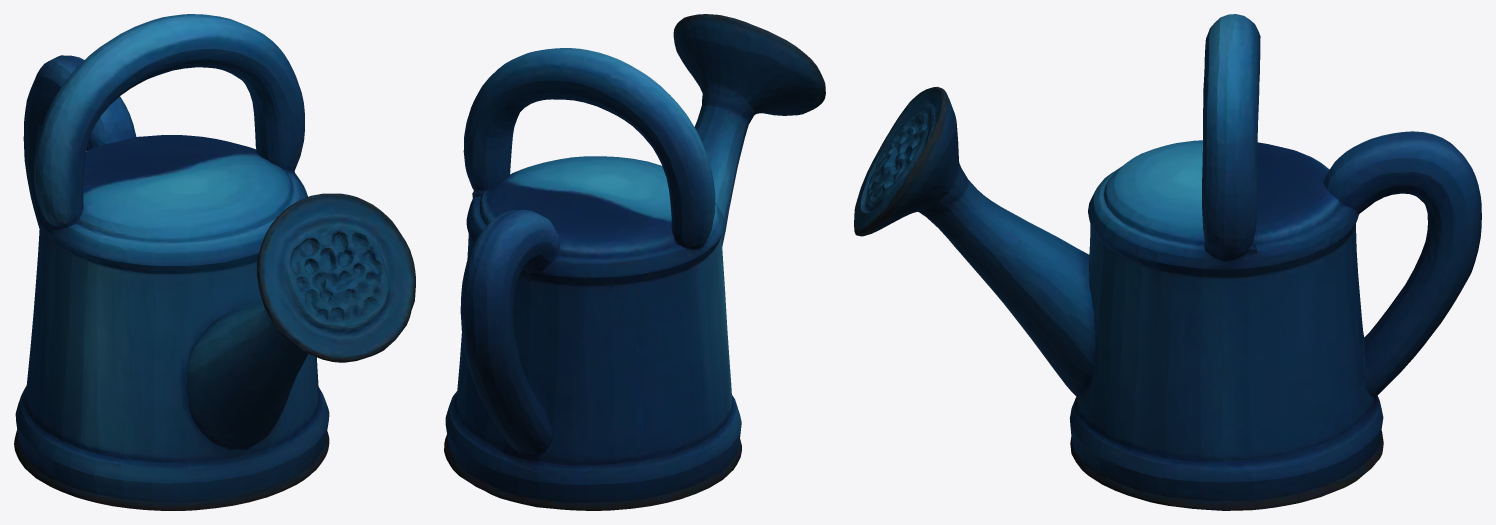
Rendered from watering_can.glb.
3 renders of one model, left to right at view 1: azimuth 30°, elevation 25°; view 2: azimuth 150°, elevation 25°; view 3: azimuth 270°, elevation 25°, orthographic. The views are drawn at different scales.
Parts seen in each view (by area): view 1: world; view 2: world; view 3: world.
Boxes of the visible parts, x1,y1,x2,y2 form: world: (14, 14, 415, 510); world: (444, 14, 825, 510); world: (854, 14, 1481, 510).
Bounding box in the file's own units: 0.4965 × 0.7337 × 1.
Materials: 1 (1 with a texture image).
